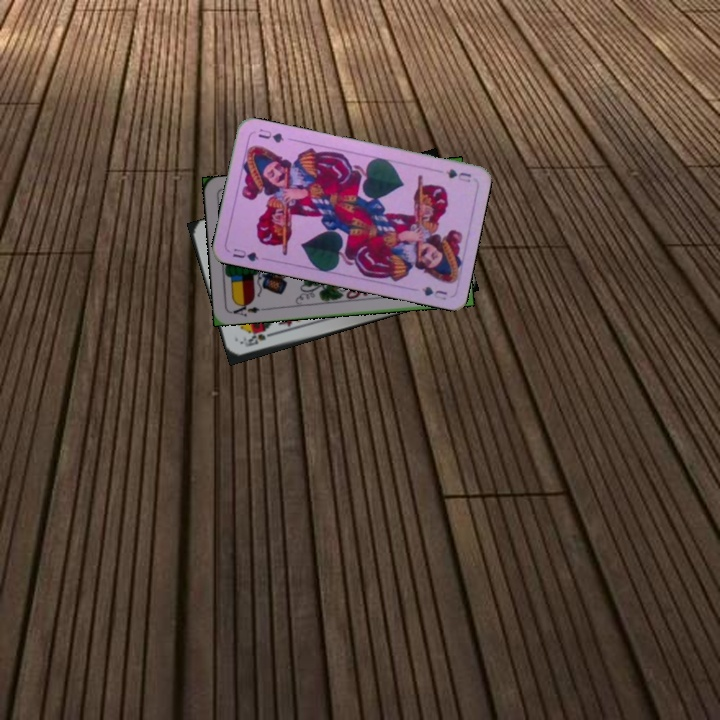EA: (228, 298, 262, 319)
GU: (229, 244, 261, 264), (442, 165, 474, 185)
SK: (238, 328, 278, 350)
